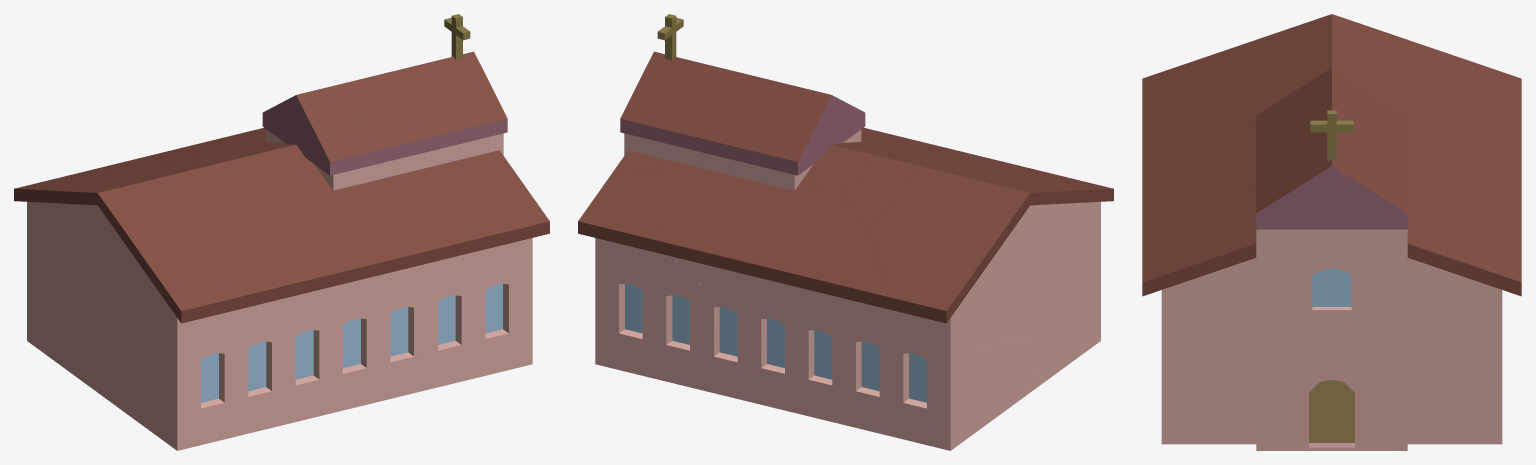
File: Iglesia.fbx
3 renders of one model, left to right at view 1: azimuth 30°, elevation 25°; view 2: azimuth 150°, elevation 25°; view 3: azimuth 270°, elevation 25°, orthographic. The views are drawn at different scales.
Visible parts, largest first — view 1: Cube.011_cell, Cube.014_cell.008, Cube.014_cell, Cube.011_cell.008, Cube.014_cell.006, Cube.011_cell.005, Cube.011_cell.007, Cube.014_cell.009, Cube.011_cell.013, Cube.011_cell.004, Cube.012_cell.006, Cube.012_cell.003 (+10 smaller); view 2: Cube.014_cell, Cube.014_cell.001, Cube.011_cell.009, Cube.011_cell.006, Cube.011_cell.011, Cube.011_cell.014, Cube.014_cell.007, Cube.011_cell.007, Cube.012_cell.002, Cube.011_cell.012, Cube.011_cell.013, Cube.014_cell.002 (+15 smaller); view 3: Cube.014_cell, Cube.011_cell.008, Cube.011_cell.009, Cube.013_cell.006, Cube.012_cell.006, Cube.013_cell.004, Cube.014_cell.008, Cube.014_cell.006, Cube.014_cell.001, Cube.013_cell.008, Cube.014_cell.007, Cube.012_cell.003 (+11 smaller).
Boxes of the visible parts, bbox=[...] form: Cube.011_cell: bbox=[299, 254, 463, 418]; Cube.014_cell.008: bbox=[142, 226, 426, 323]; Cube.014_cell: bbox=[14, 162, 253, 267]; Cube.011_cell.008: bbox=[403, 238, 532, 395]; Cube.014_cell.006: bbox=[391, 150, 549, 263]; Cube.011_cell.005: bbox=[187, 293, 308, 424]; Cube.011_cell.007: bbox=[29, 202, 127, 343]; Cube.014_cell.009: bbox=[232, 142, 401, 235]; Cube.011_cell.013: bbox=[100, 324, 212, 450]; Cube.011_cell.004: bbox=[119, 248, 255, 377]; Cube.012_cell.006: bbox=[424, 51, 507, 149]; Cube.012_cell.003: bbox=[301, 63, 427, 120]; Cube.014_cell: bbox=[868, 163, 1077, 323]; Cube.014_cell.001: bbox=[709, 180, 887, 308]; Cube.011_cell.009: bbox=[595, 239, 727, 378]; Cube.011_cell.006: bbox=[864, 312, 990, 450]; Cube.011_cell.011: bbox=[764, 330, 1028, 429]; Cube.011_cell.014: bbox=[747, 280, 934, 366]; Cube.014_cell.007: bbox=[645, 160, 780, 266]; Cube.011_cell.007: bbox=[955, 204, 1051, 345]; Cube.012_cell.002: bbox=[660, 98, 821, 175]; Cube.011_cell.012: bbox=[701, 308, 790, 411]; Cube.011_cell.013: bbox=[1024, 265, 1100, 368]; Cube.014_cell.002: bbox=[578, 175, 675, 257]; Cube.014_cell: bbox=[1224, 14, 1521, 113]; Cube.011_cell.008: bbox=[1161, 258, 1256, 444]; Cube.011_cell.009: bbox=[1407, 258, 1502, 444]; Cube.013_cell.006: bbox=[1256, 272, 1407, 450]; Cube.012_cell.006: bbox=[1255, 142, 1408, 229]; Cube.013_cell.004: bbox=[1256, 292, 1396, 450]; Cube.014_cell.008: bbox=[1142, 51, 1229, 212]; Cube.014_cell.006: bbox=[1142, 184, 1256, 296]; Cube.014_cell.001: bbox=[1408, 111, 1521, 209]; Cube.013_cell.008: bbox=[1256, 229, 1407, 284]; Cube.014_cell.007: bbox=[1408, 160, 1521, 236]; Cube.012_cell.003: bbox=[1276, 70, 1400, 185].
Size of the model in its own units: 3178 by 2364 by 2447.
